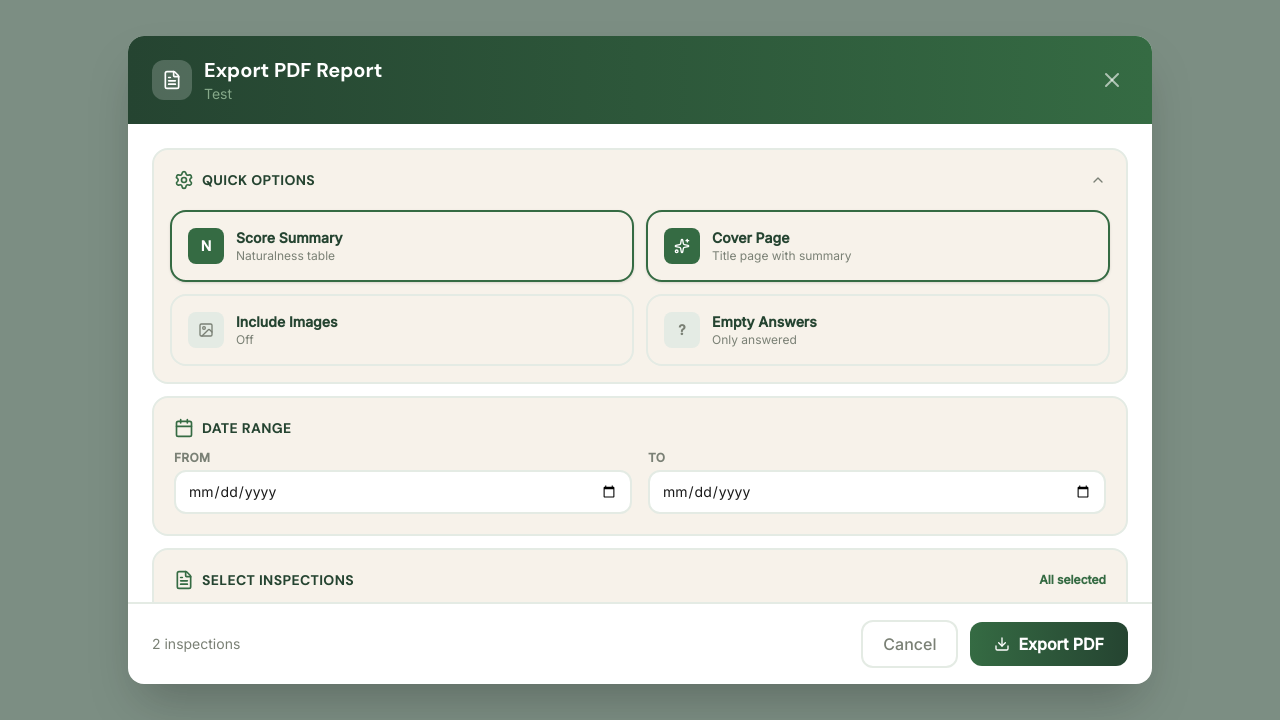
Test: PdfExportModal › filters preview count by date range
Check: the text "2 inspections" is shown, box [152, 634, 240, 654]
Type "2024-01-01" into the date field below "From" at [403, 492], box [174, 470, 632, 514]
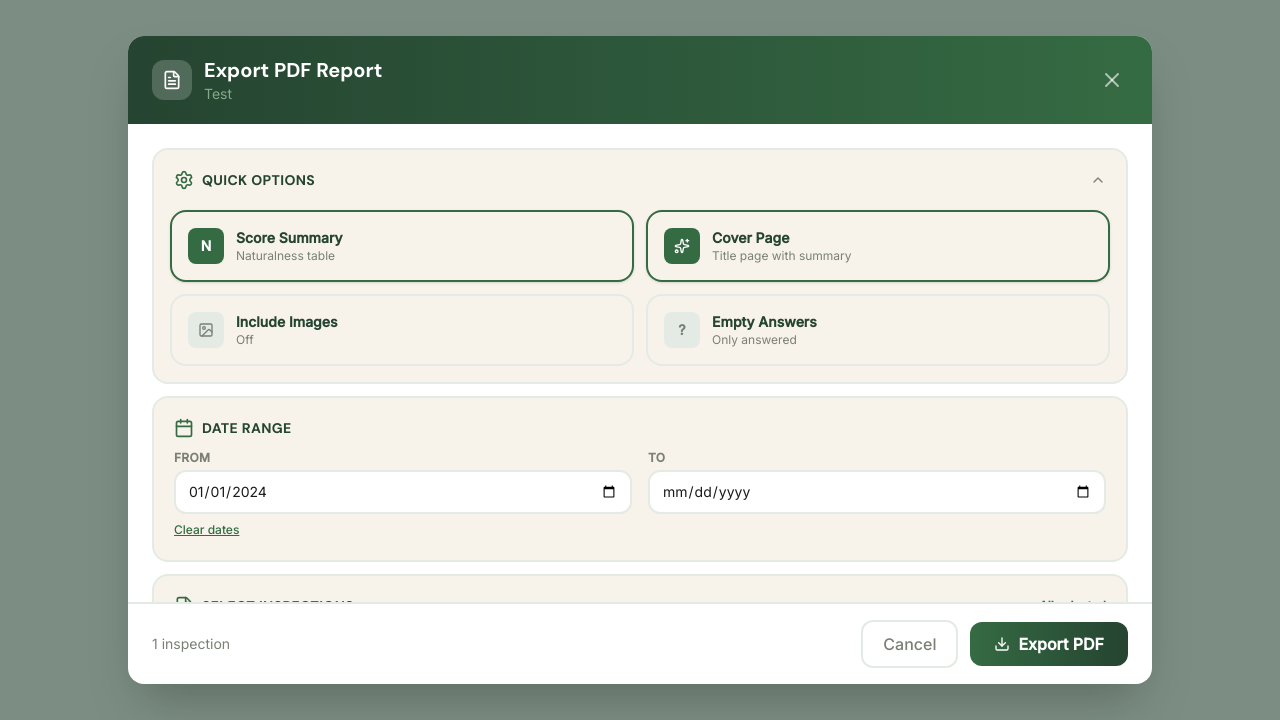
Check: the text "1 inspection" is shown, box [152, 634, 230, 654]
